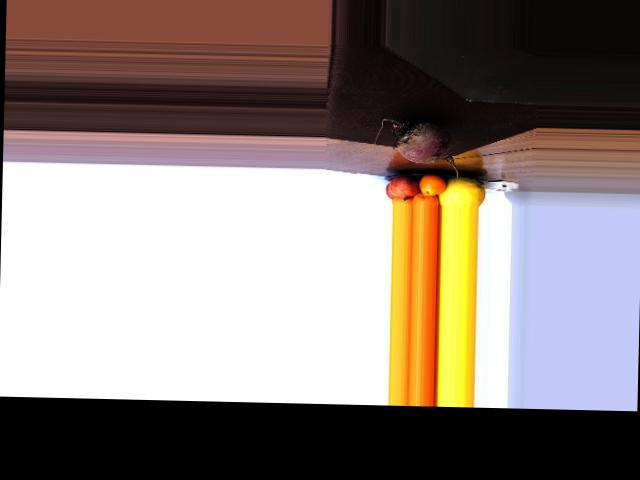beet: (373, 118, 460, 183)
